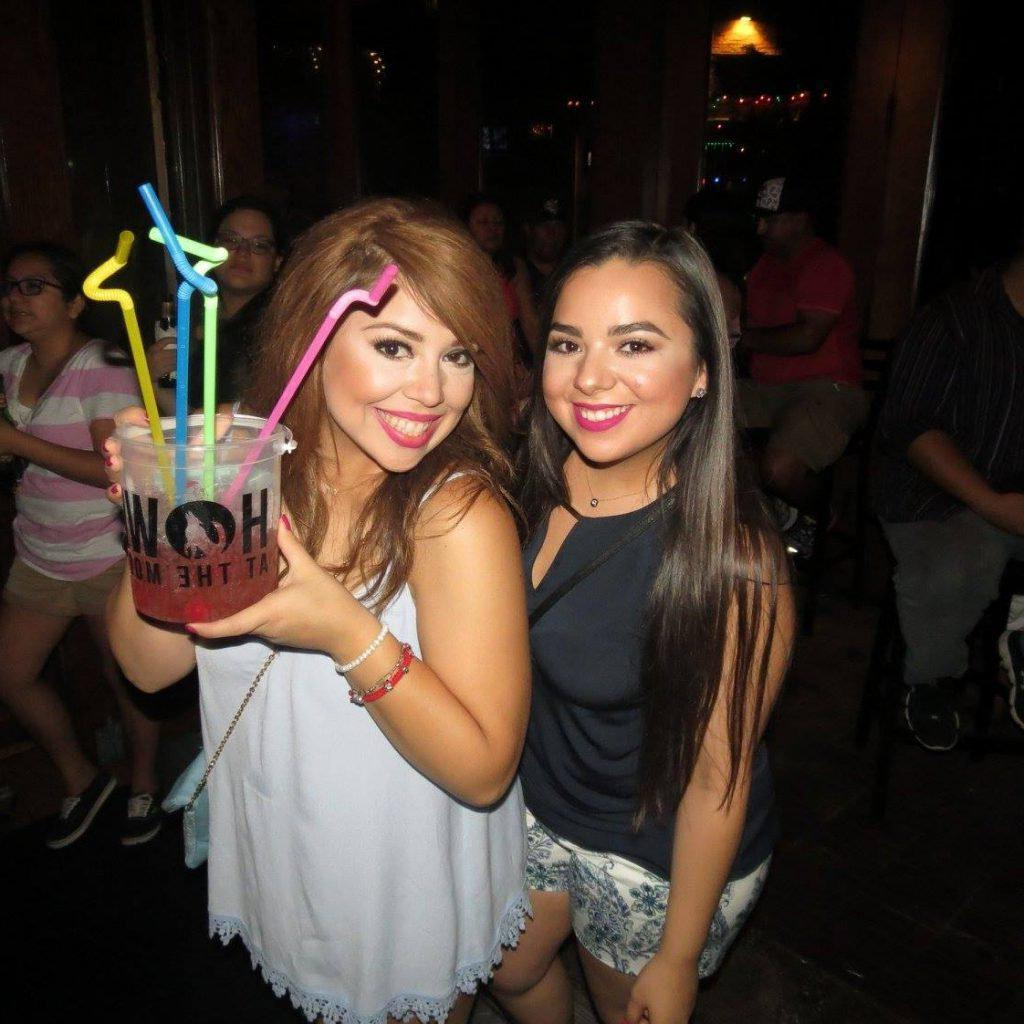Drunk: (541, 284, 687, 455), (341, 300, 475, 465)
